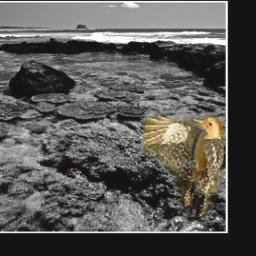Woodpecker: (143, 116, 224, 218), (67, 167, 88, 188)
